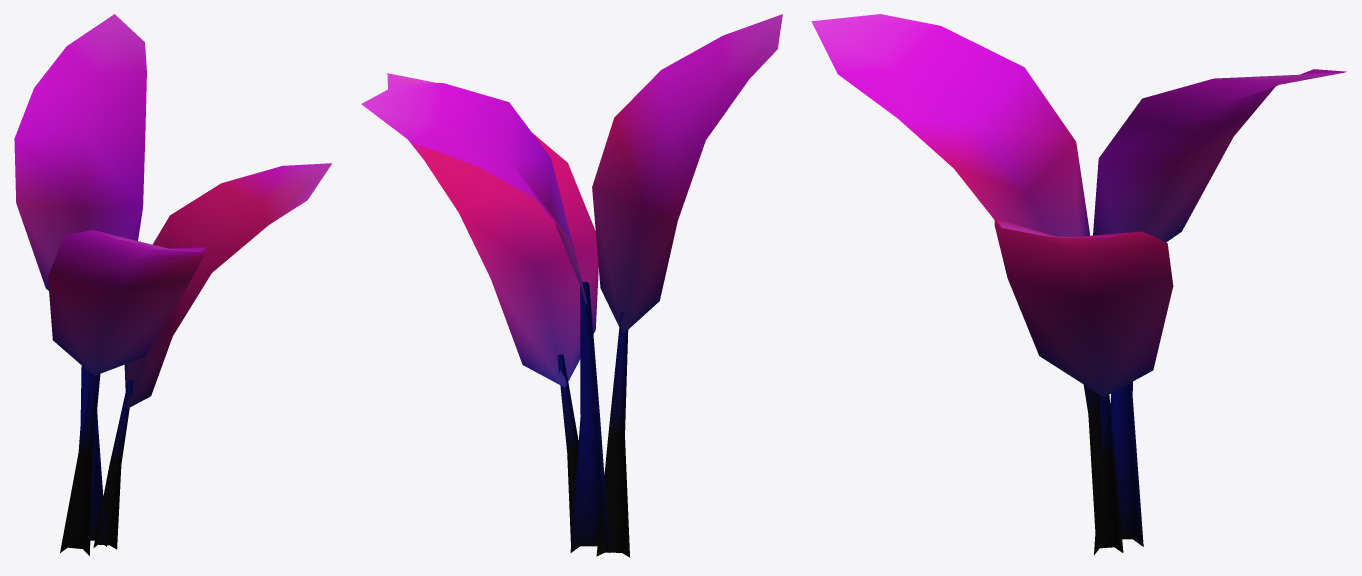
Rendered from Bananas_03.fbx.
The picture shows the model from 3 angles, left to right: view 1: azimuth 30°, elevation 25°; view 2: azimuth 150°, elevation 25°; view 3: azimuth 270°, elevation 25°; orthographic projection. The views are drawn at different scales.
Visible parts, largest first — view 1: Bananas_03; view 2: Bananas_03; view 3: Bananas_03.
Part boxes in pixels (<box>): Bananas_03: <box>14,14,331,555</box>; Bananas_03: <box>361,14,782,557</box>; Bananas_03: <box>811,14,1346,554</box>.
Size of the model in its own units: 173 by 258 by 229.
